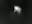person: (14, 6, 22, 17)
